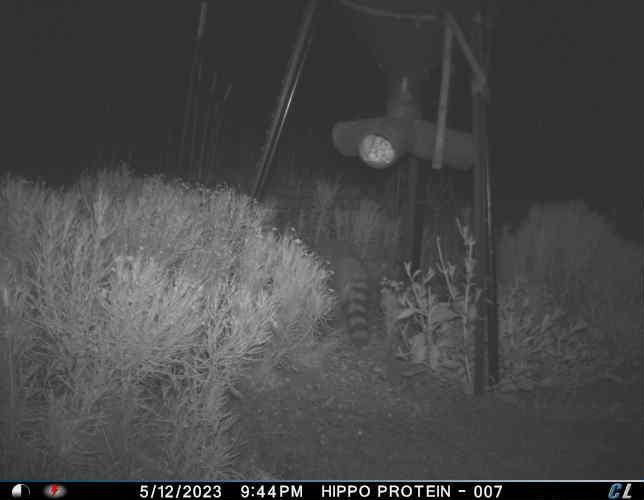Raccoon: (327, 242, 375, 347)
